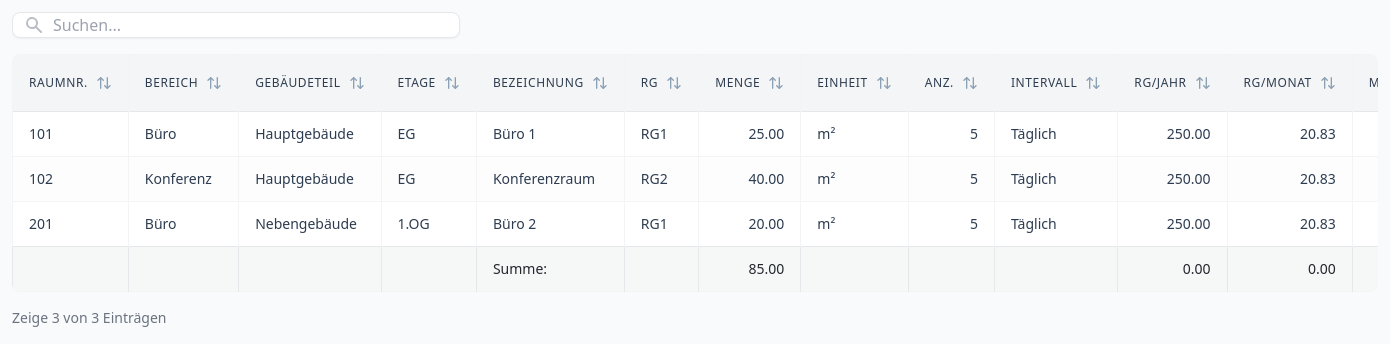
Test: RaumbuchTable Component › Filtert die Tabelle bei Sucheingabe
This screenshot has width=1390, height=344.
// Suche nach "Konferenz"
Type "Konferenz" into the field with placeholder "Suchen..." at (236, 25), box [12,12,460,38]
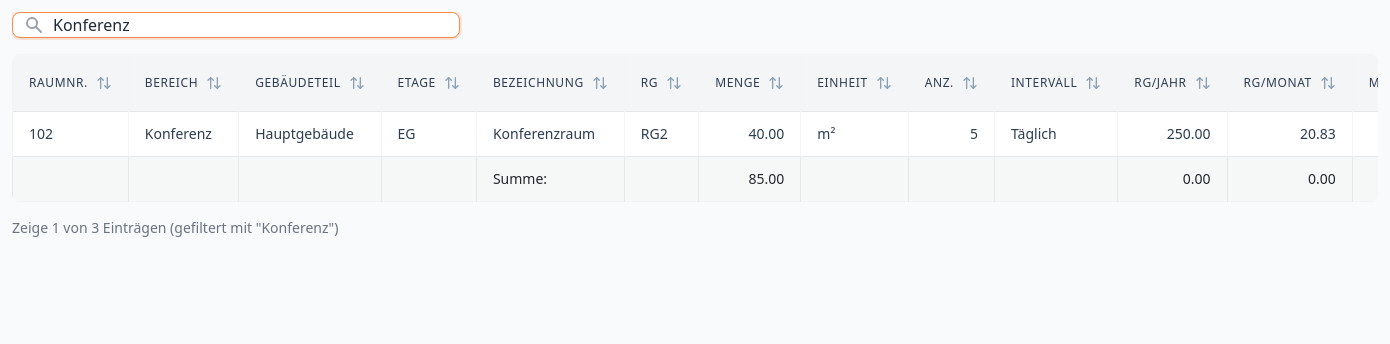
Now the text "Konferenzraum" is shown, box [476,112,624,156]
Now the text "Büro 1" is gone
Now the text "Zeige 1 von 3 Einträgen (gefiltert mit \"Konferenz\")" is shown, box [12,218,338,237]
